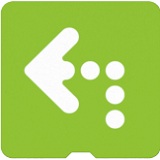left: (1, 1, 160, 159)
